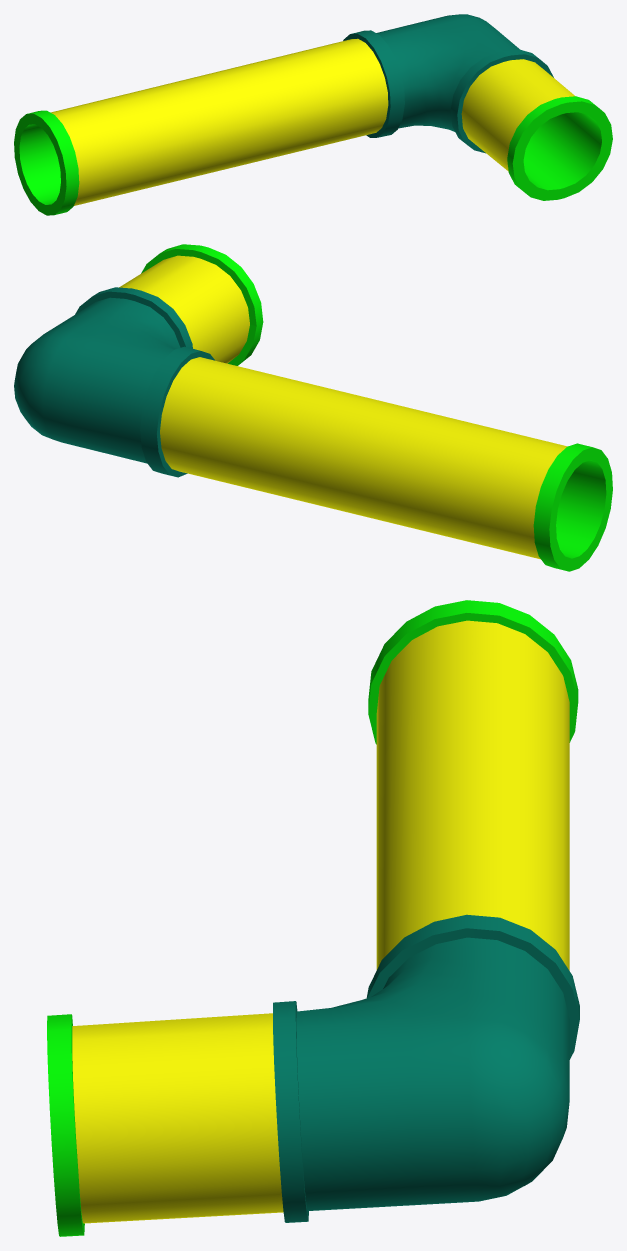
File: SM_Tuyau_courbe.fbx
3 views of the same model, one above another, from view 1: azimuth 30°, elevation 25°; view 2: azimuth 150°, elevation 25°; view 3: azimuth 270°, elevation 25° (orthographic). The views are drawn at different scales.
Visible parts, largest first — view 1: SM_Tuyau_courbe; view 2: SM_Tuyau_courbe; view 3: SM_Tuyau_courbe.
Part boxes in pixels (box(x1,y1,x2,y2)): SM_Tuyau_courbe: box(14, 14, 612, 215); SM_Tuyau_courbe: box(14, 244, 612, 571); SM_Tuyau_courbe: box(47, 600, 579, 1236).
Bounding box in the file's own units: 1.2 × 0.2679 × 0.5933.
